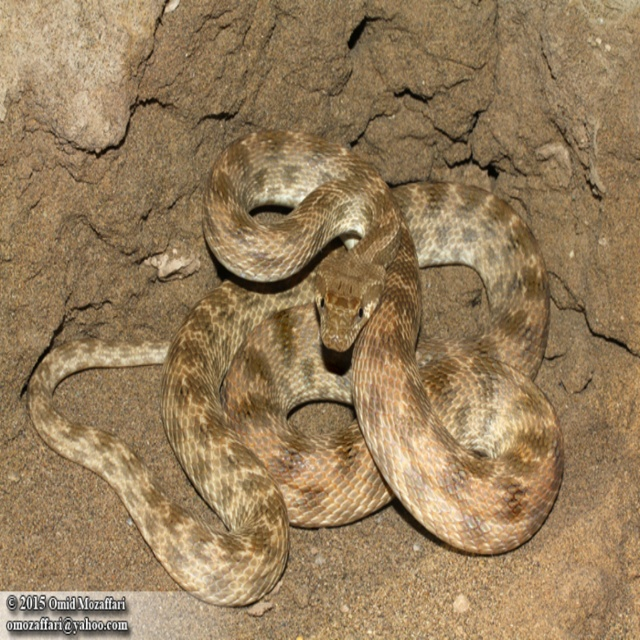Snake: (16, 129, 575, 593)
